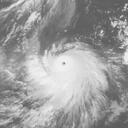cyclone: (29, 45, 105, 105)
